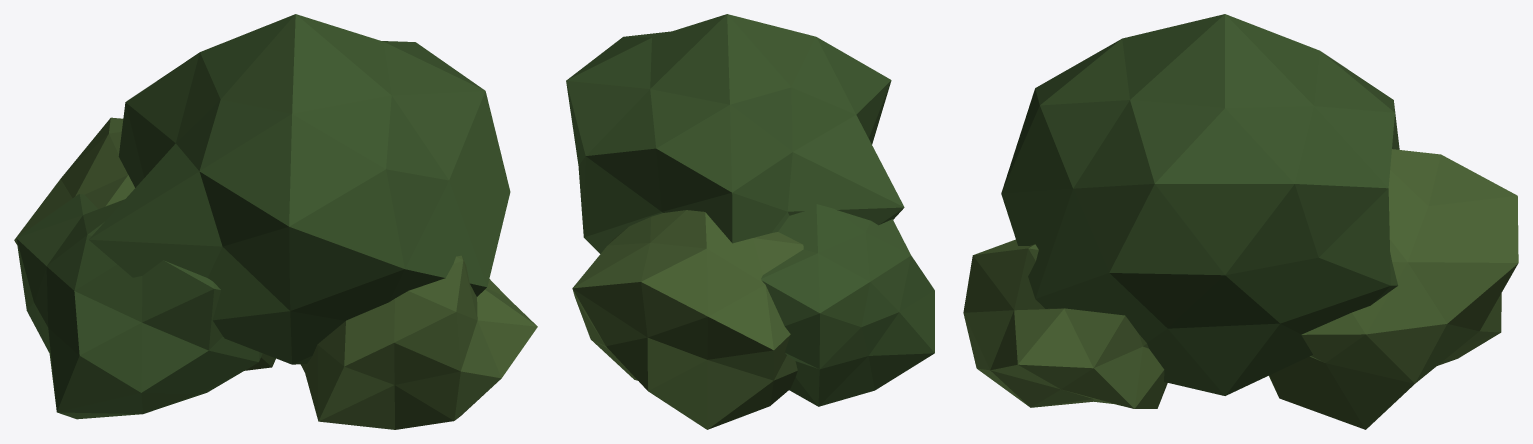
Rendered from bush.glb.
3 views of the same model, side by side, from view 1: azimuth 30°, elevation 25°; view 2: azimuth 150°, elevation 25°; view 3: azimuth 270°, elevation 25° (orthographic). The views are drawn at different scales.
Parts seen in each view (by area): view 1: bush; view 2: bush; view 3: bush.
Boxes of the visible parts, x1=… form: bush: x1=14, y1=14, x2=537, y2=429; bush: x1=566, y1=14, x2=934, y2=429; bush: x1=963, y1=14, x2=1518, y2=429.
Size of the model in its own units: 1.88 by 1.73 by 2.19.
